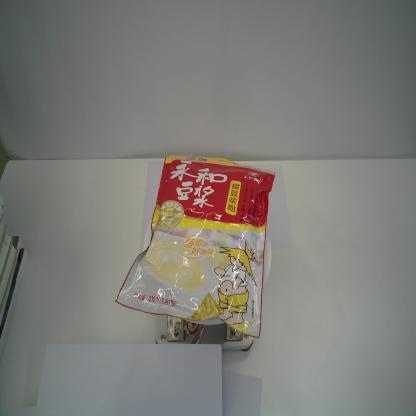Instant Drink: (115, 154, 275, 339)
